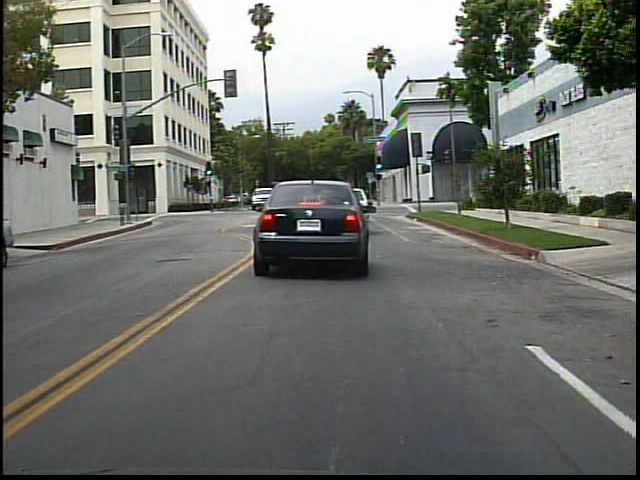person: (318, 180, 344, 220)
